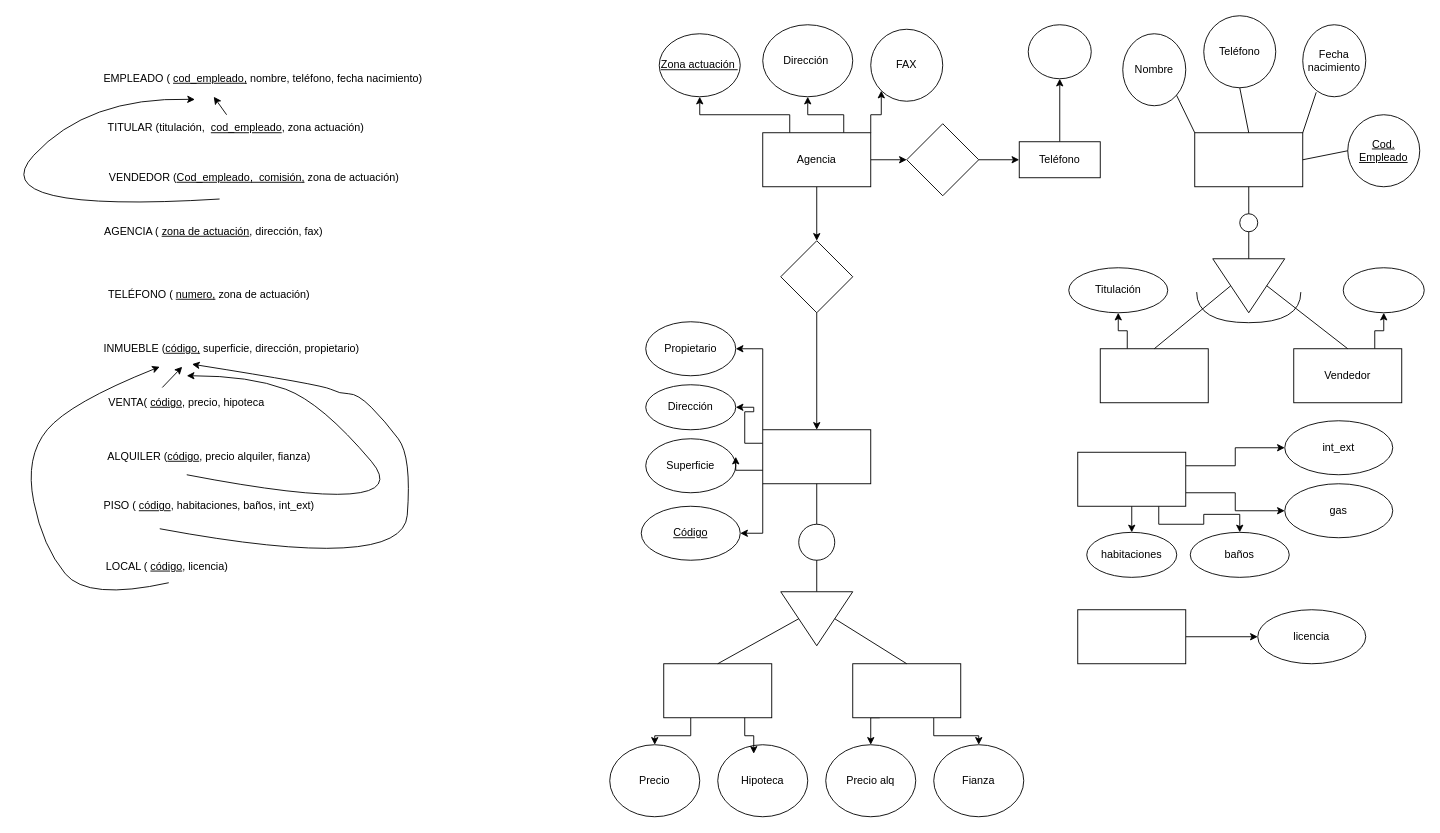
The diagram is 1440 pixels wide and 833 high, and some of its shapes have lost their labels. Each missing label, with the box of its shape:
Alquiler: (852, 663, 961, 718)
Comisión: (1342, 267, 1424, 313)
Empleado: (1194, 132, 1303, 187)
Inmueble: (762, 429, 871, 484)
Local: (1077, 609, 1186, 664)
Número: (1027, 24, 1091, 79)
Piso: (1077, 451, 1186, 506)
Posee: (780, 240, 853, 313)
Tiene: (906, 123, 979, 196)
Titular: (1099, 348, 1208, 403)
Venta: (663, 663, 772, 718)
